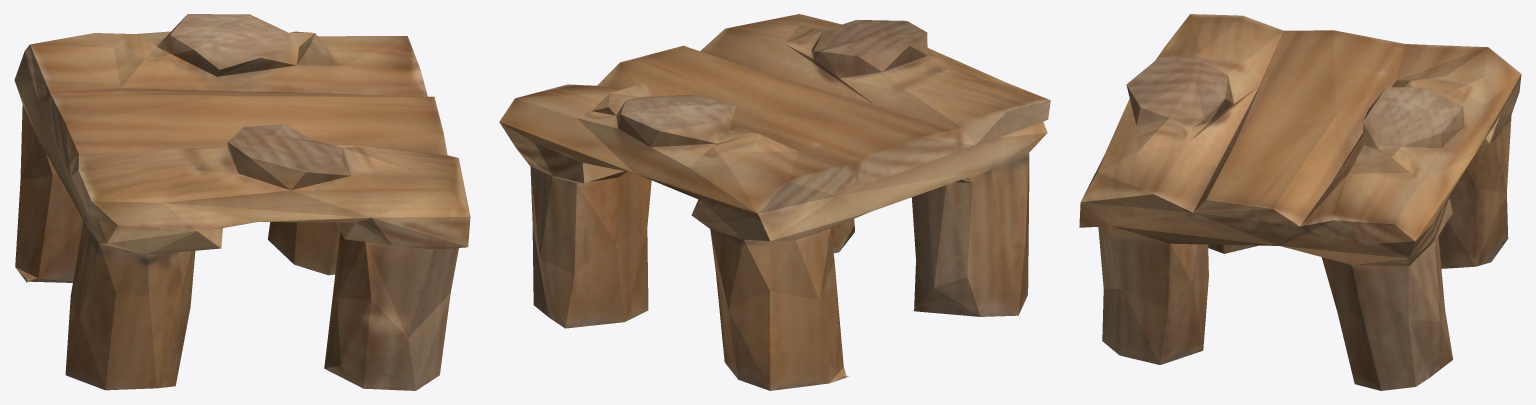
3 renders of one model, left to right at view 1: azimuth 30°, elevation 25°; view 2: azimuth 150°, elevation 25°; view 3: azimuth 270°, elevation 25°, orthographic. The views are drawn at different scales.
Parts seen in each view (by area): view 1: _Holyspielyeug_0.5k_1k; view 2: _Holyspielyeug_0.5k_1k; view 3: _Holyspielyeug_0.5k_1k.
Boxes of the visible parts, left/top/right/bottom form: _Holyspielyeug_0.5k_1k: left=14, top=14, right=470, bottom=390; _Holyspielyeug_0.5k_1k: left=499, top=14, right=1050, bottom=390; _Holyspielyeug_0.5k_1k: left=1079, top=14, right=1521, bottom=390.
Size of the model in its own units: 0.0666 by 0.0366 by 0.0643.
Materials: 1 (1 with a texture image).
